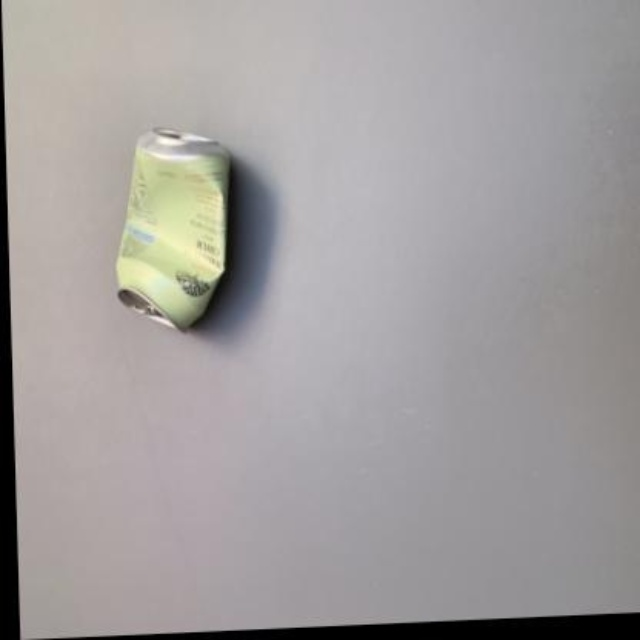trash: (117, 128, 228, 328)
